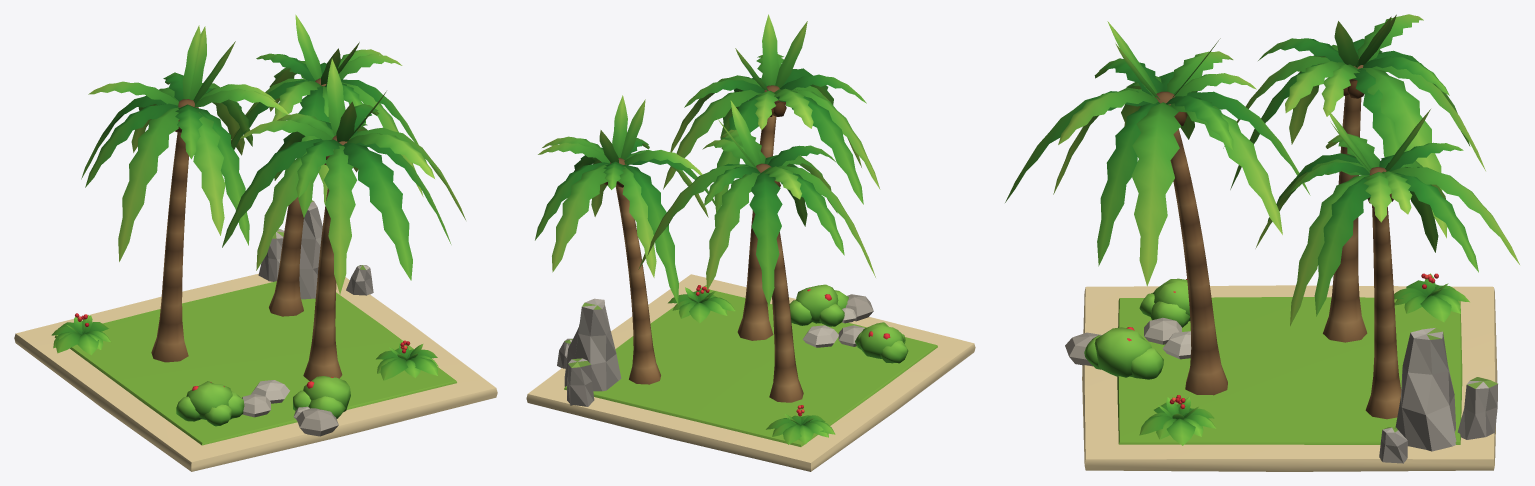
File: Greenery.obj
The picture shows the model from 3 angles, left to right: view 1: azimuth 30°, elevation 25°; view 2: azimuth 150°, elevation 25°; view 3: azimuth 270°, elevation 25°; orthographic projection. The views are drawn at different scales.
Visible parts, largest first — view 1: Greenery; view 2: Greenery; view 3: Greenery.
Part boxes in pixels (left/top/right/bottom): Greenery: left=14, top=14, right=497, bottom=471; Greenery: left=526, top=14, right=975, bottom=471; Greenery: left=1005, top=14, right=1519, bottom=471.
Bounding box in the file's own units: 3.3 × 3.01 × 3.73.
Materials: 1 (1 with a texture image).
